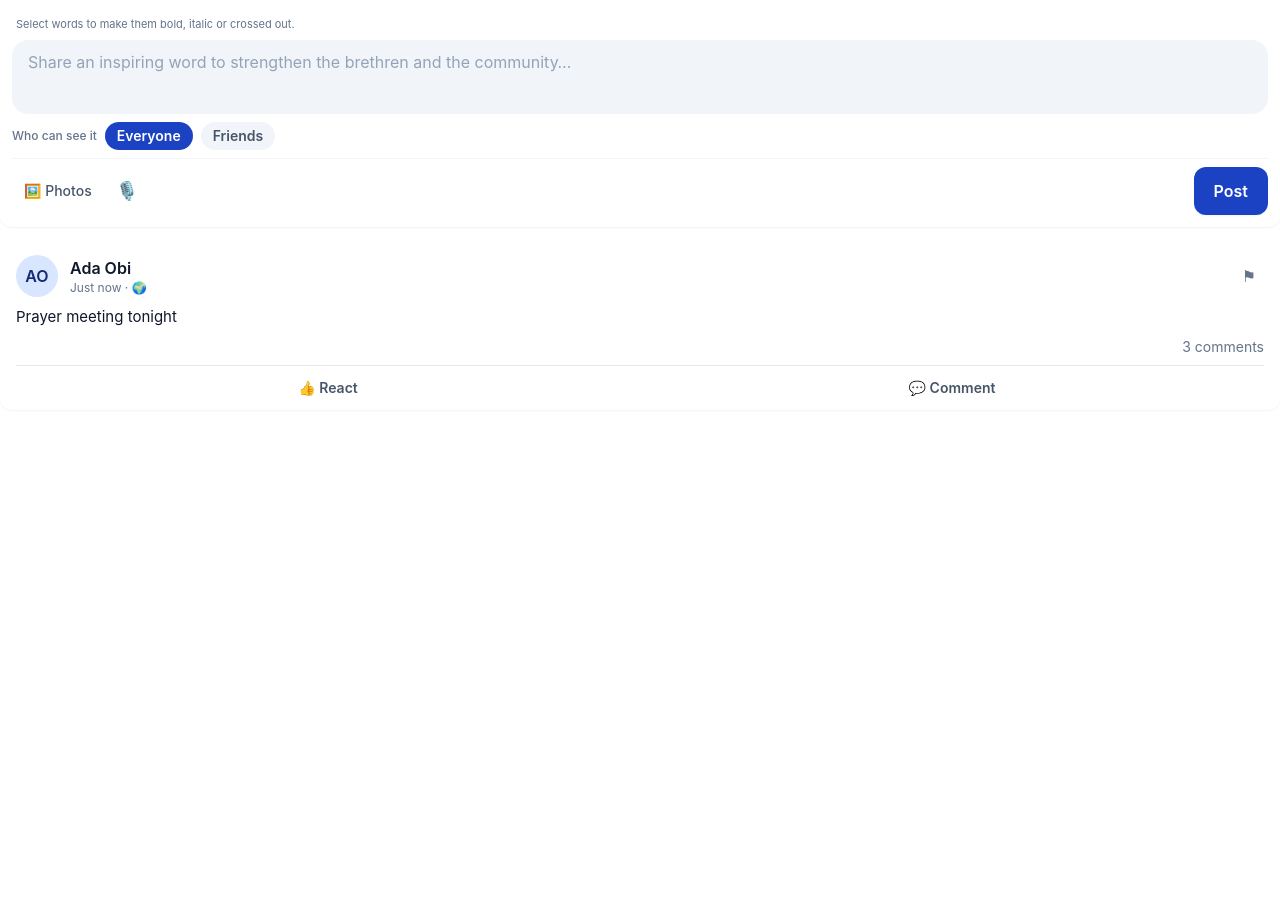
Comments with likes and replies › shows reaction counts and puts replies under the comment they answer
Click the button "💬 Comment".
click(952, 388)  # box left=640, top=370, right=1264, bottom=406
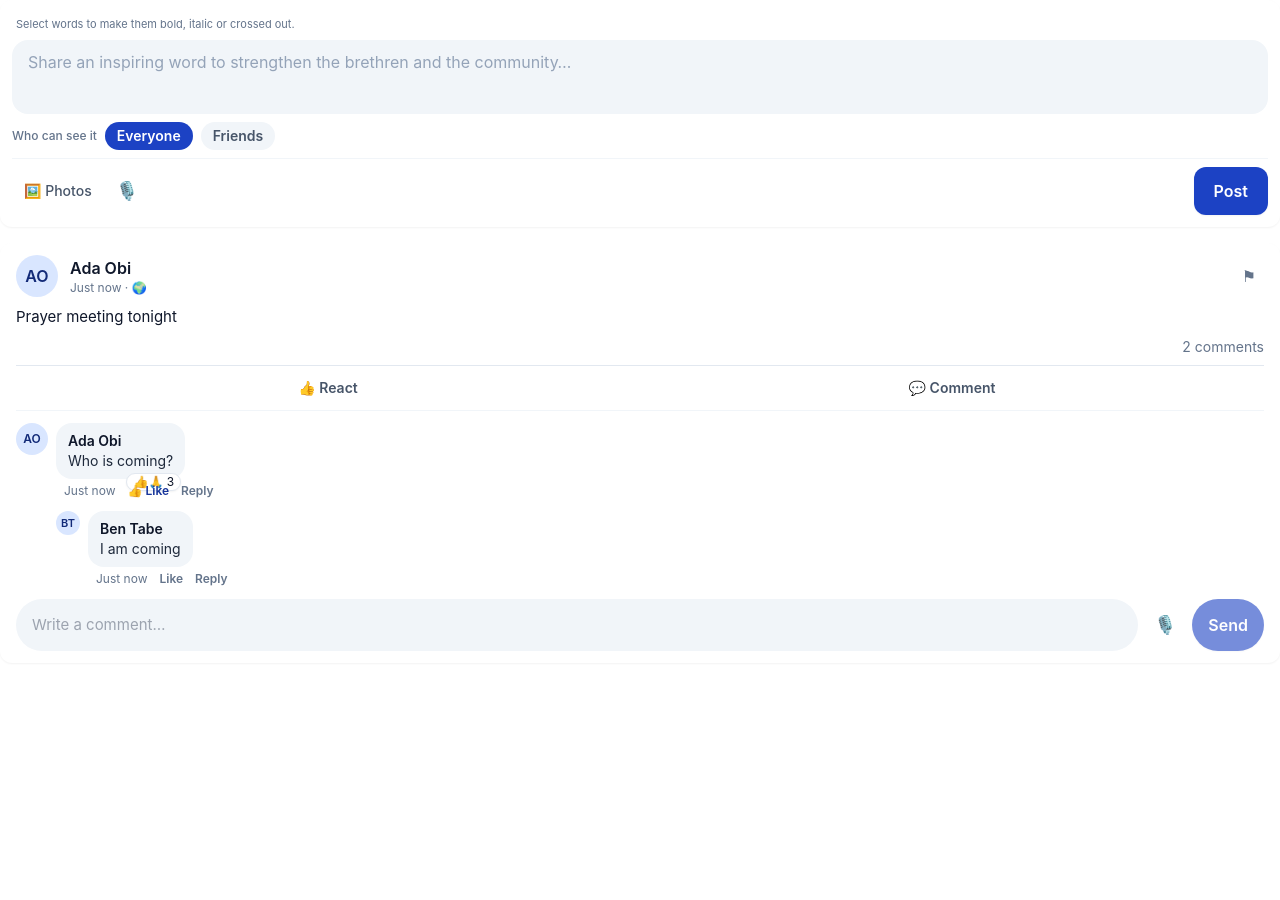
Expected: the button "👍🙏 3" is shown, left=126, top=473, right=181, bottom=491
Expected: the button "👍 Like" is shown, left=128, top=483, right=169, bottom=499
